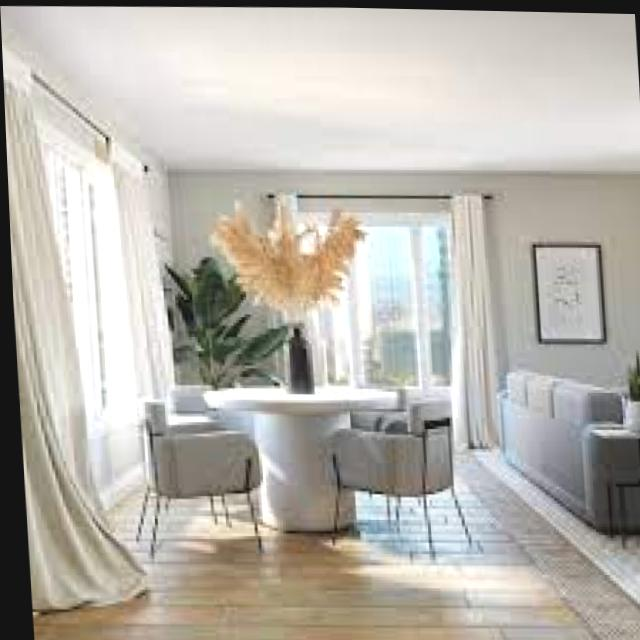noobs: (37, 444, 640, 640)
obs: (203, 375, 395, 533), (491, 370, 640, 550), (325, 394, 474, 556), (127, 398, 270, 558)
semobs: (32, 477, 141, 629)
